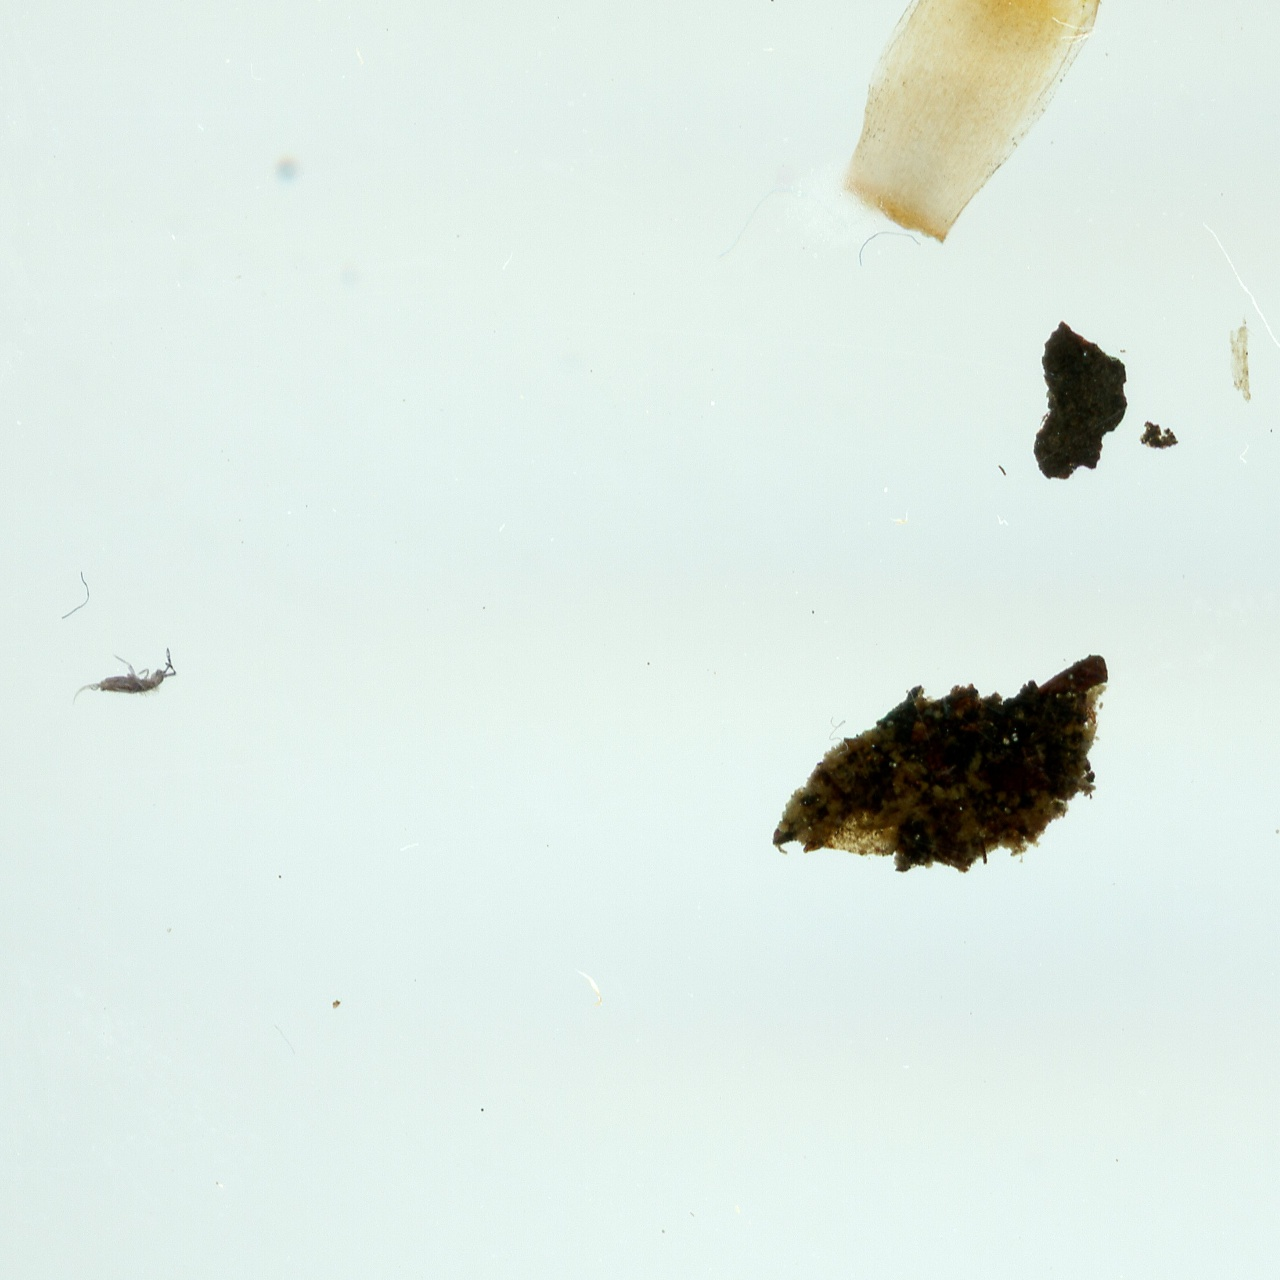arthropod: (66, 645, 180, 708)
